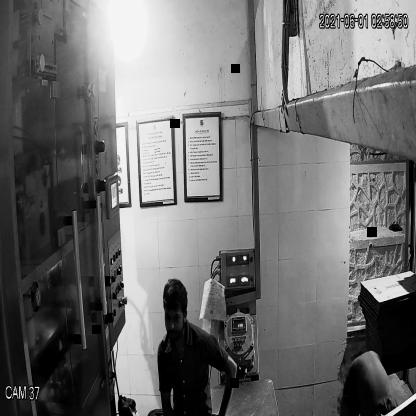no_goggles: (159, 307, 190, 328)
